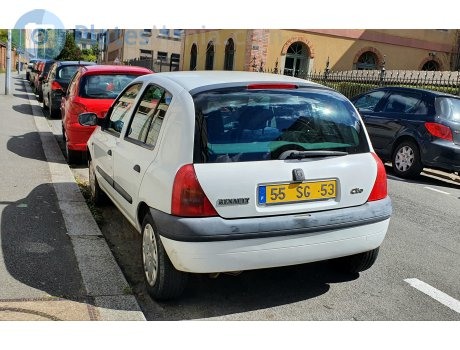licence plate: (257, 177, 339, 206)
